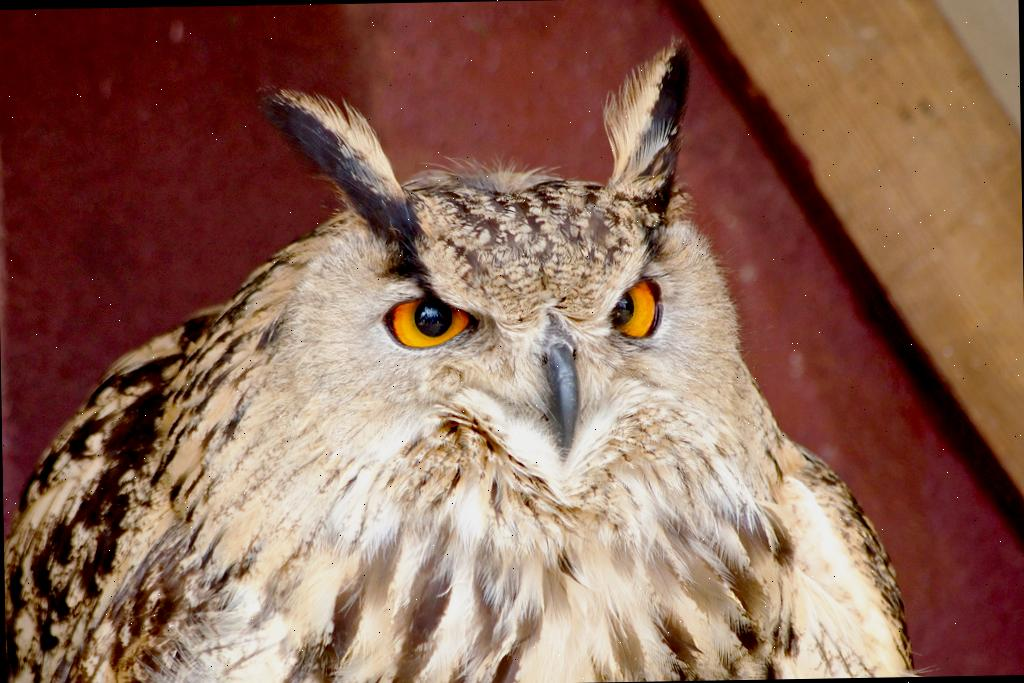Owl: (2, 36, 960, 683)
